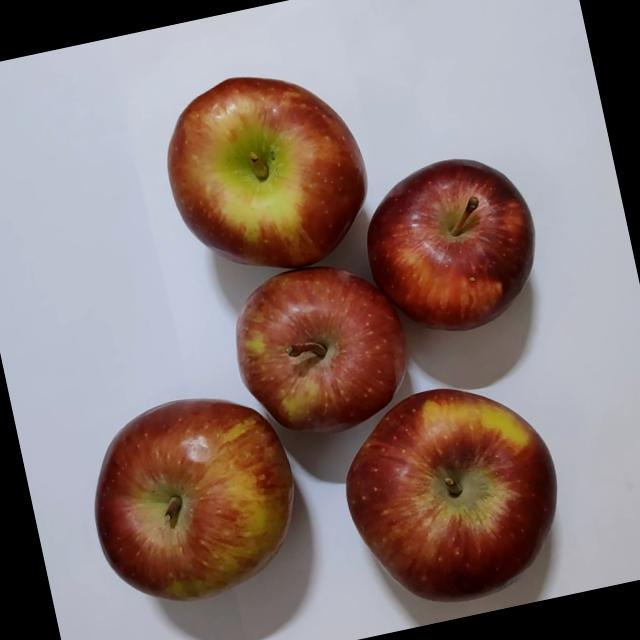apple: (316, 366, 576, 627), (136, 48, 390, 310), (69, 372, 318, 630), (340, 136, 563, 358), (211, 241, 428, 455)
